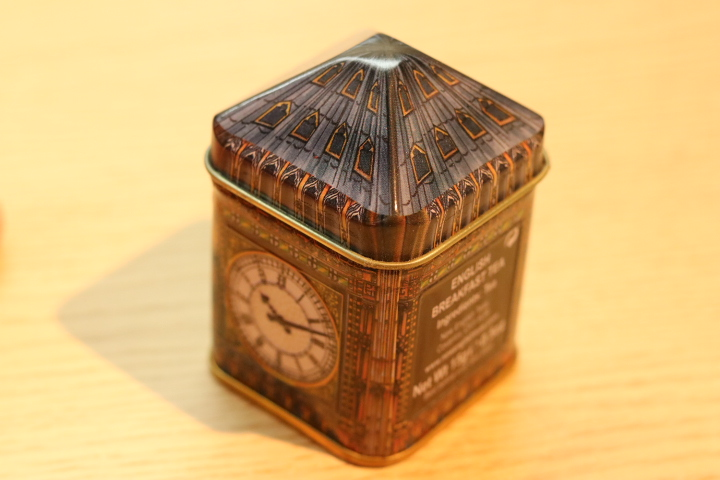Big Ben: (175, 17, 589, 479)
